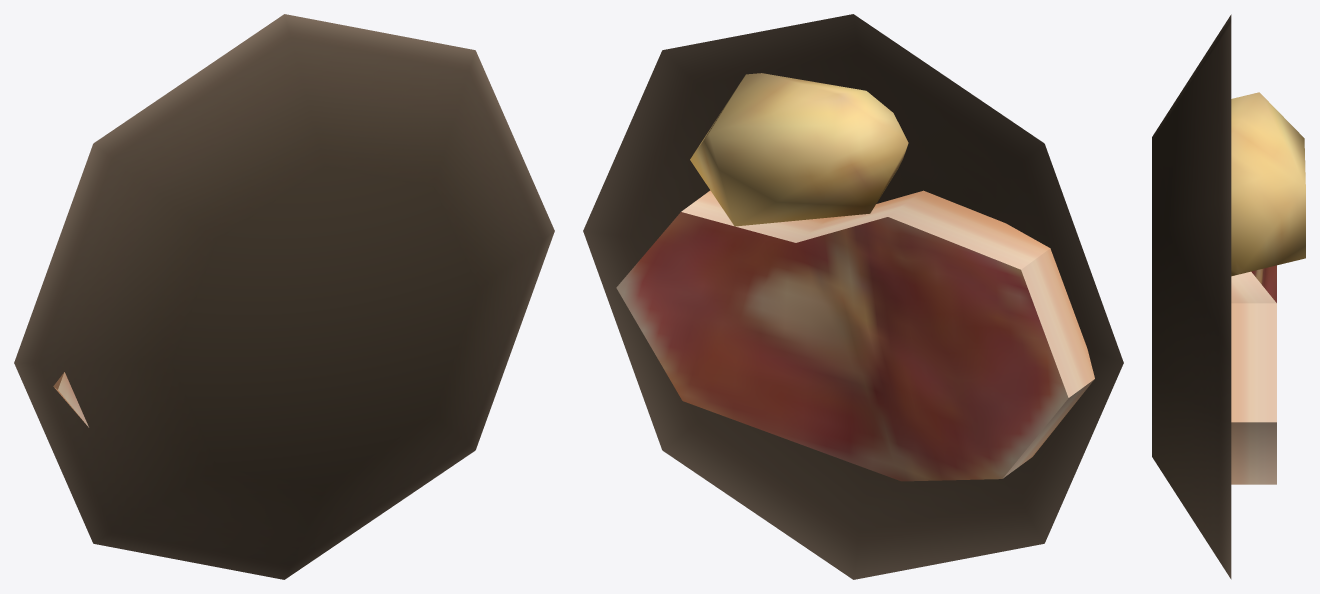
The model's file is Plate_B.fbx.
3 views of the same model, side by side, from view 1: azimuth 30°, elevation 25°; view 2: azimuth 150°, elevation 25°; view 3: azimuth 270°, elevation 25° (orthographic). The views are drawn at different scales.
Visible parts, largest first — view 1: Plate_B; view 2: Plate_B; view 3: Plate_B.
Boxes of the visible parts, x1,y1,x2,y2 form: Plate_B: (14, 14, 554, 579); Plate_B: (583, 14, 1123, 579); Plate_B: (1152, 14, 1305, 579).
Bounding box in the file's own units: 0.6229 × 0.6229 × 0.159.
